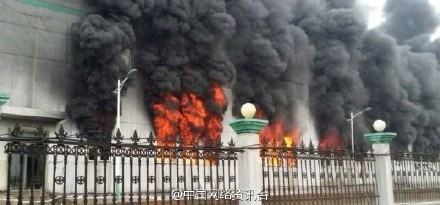fire: (149, 84, 224, 164), (257, 117, 298, 165), (317, 128, 342, 153)
